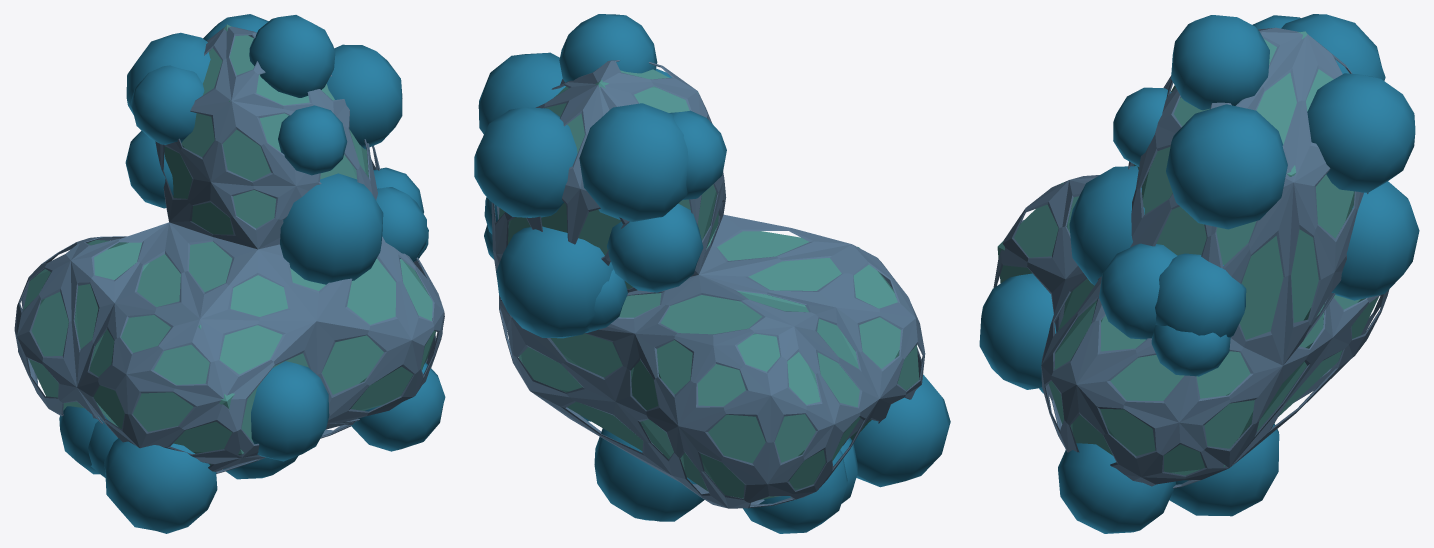
Rendered from glueBush1.fbx.
3 views of the same model, side by side, from view 1: azimuth 30°, elevation 25°; view 2: azimuth 150°, elevation 25°; view 3: azimuth 270°, elevation 25° (orthographic). The views are drawn at different scales.
Visible parts, largest first — view 1: Mball.001; view 2: Mball.001; view 3: Mball.001.
Boxes of the visible parts, x1,y1,x2,y2 form: Mball.001: [14, 14, 445, 533]; Mball.001: [474, 14, 950, 533]; Mball.001: [979, 14, 1419, 533].
Size of the model in its own units: 257 by 302 by 233.
